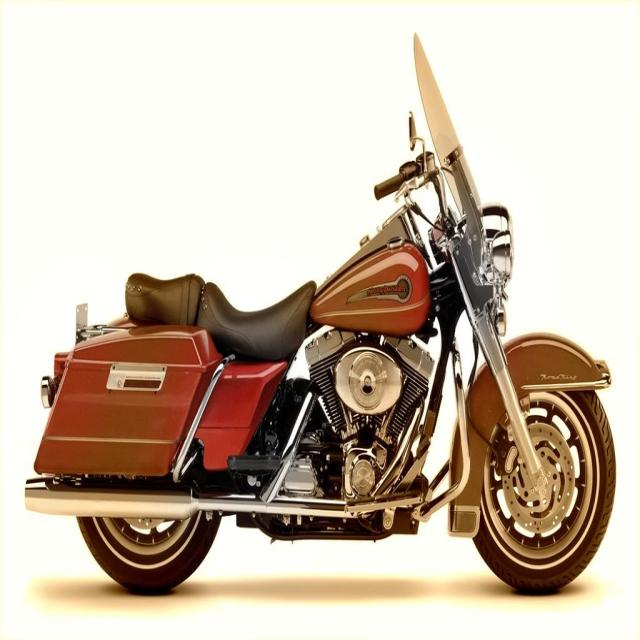Motorbikes: (25, 32, 617, 597)
